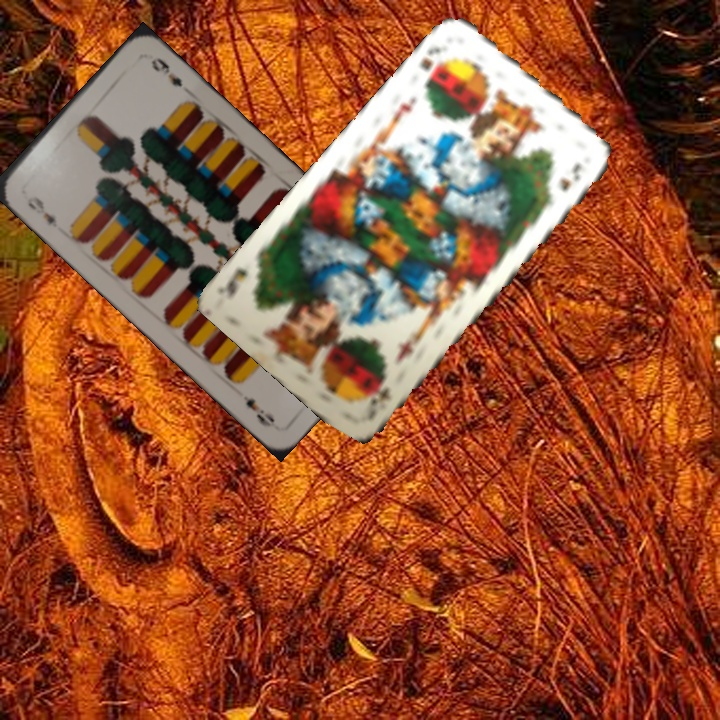E9: (23, 191, 61, 231)
SK: (416, 43, 451, 88), (364, 370, 394, 411)
